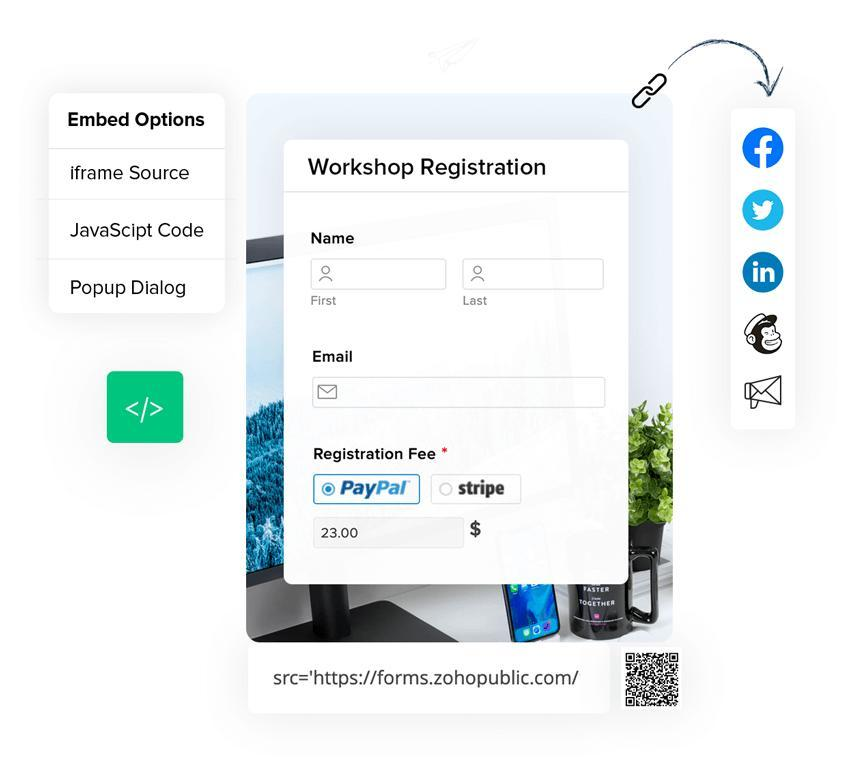button: (313, 473, 422, 506), (432, 475, 523, 506)
icon: (106, 371, 187, 446), (742, 315, 787, 357), (742, 376, 788, 411)
input: (313, 378, 607, 409), (464, 258, 605, 291), (315, 521, 466, 550), (311, 260, 447, 292)
label: (272, 667, 588, 697), (310, 443, 450, 467), (307, 347, 357, 368), (306, 230, 357, 248), (304, 293, 346, 311), (465, 517, 490, 544), (461, 295, 492, 311)
